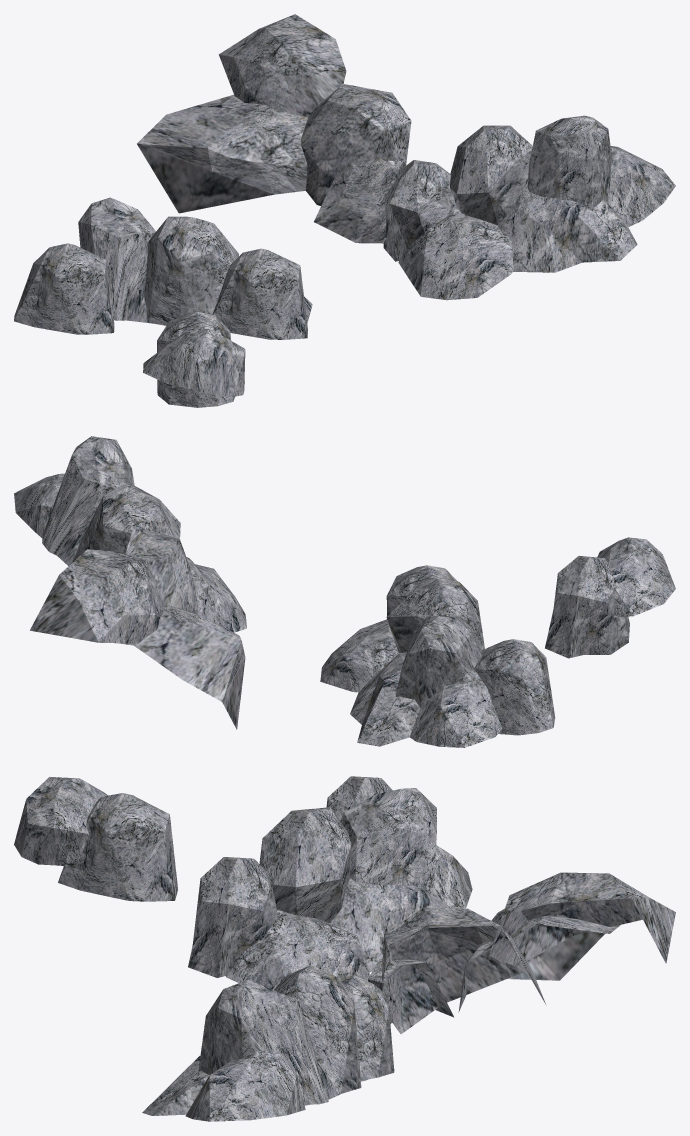
The model's file is des_rockgp1_07.obj.
3 views of the same model, one above another, from view 1: azimuth 30°, elevation 25°; view 2: azimuth 150°, elevation 25°; view 3: azimuth 270°, elevation 25° (orthographic). The views are drawn at different scales.
Parts seen in each view (by area): view 1: des_rockgp1_07; view 2: des_rockgp1_07; view 3: des_rockgp1_07.
Part boxes in pixels (x1,y1,x2,y2): des_rockgp1_07: [14, 14, 675, 407]; des_rockgp1_07: [14, 436, 675, 747]; des_rockgp1_07: [14, 776, 675, 1121].
Bounding box in the file's own units: 139 × 36.39 × 114.
2 materials, 2 textured.
